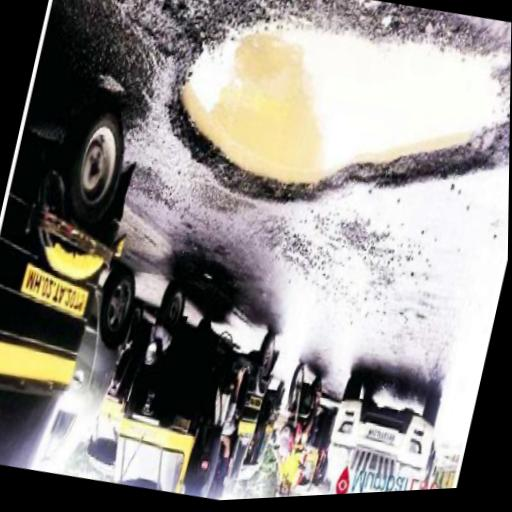pothole: (144, 0, 512, 263)
